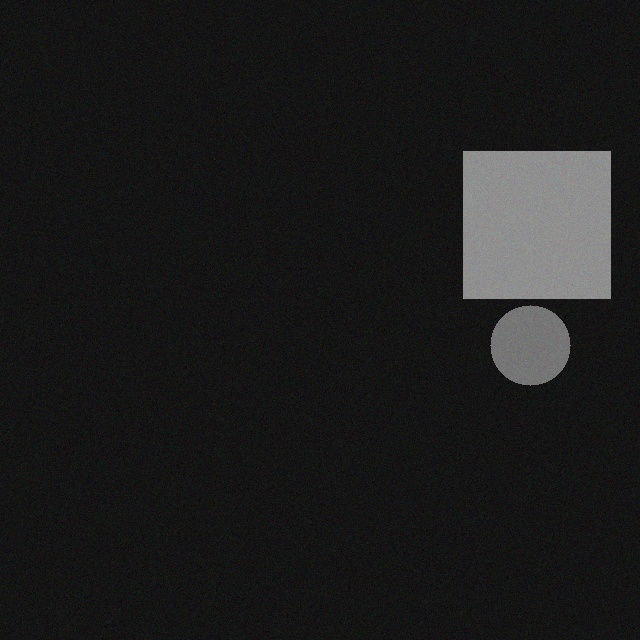circle: (489, 307, 569, 387)
square: (462, 153, 609, 300)
